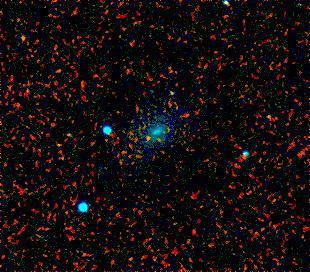star: (134, 121, 164, 151)
